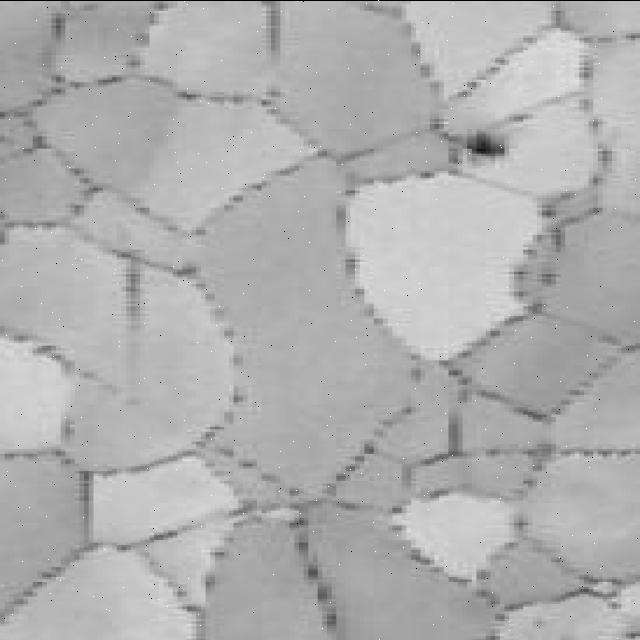good_void: (456, 131, 512, 158)
